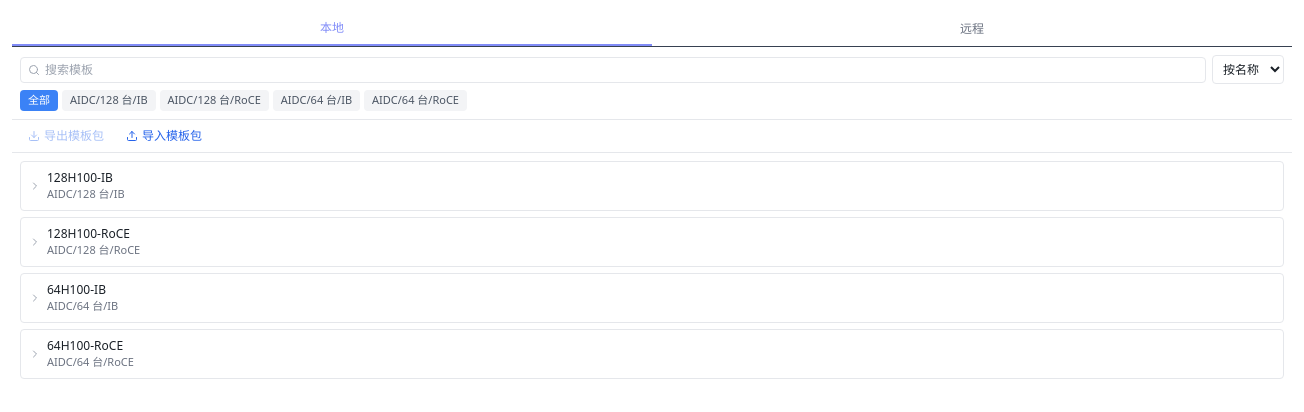
it: 4.9.0 模板中心展示 AIDC 示例 › 按 scenario 分类筛选
The width and height of the screenshot is (1304, 412).
// 点击分类按钮 AIDC/128 台/IB → 仅剩 128H100-IB
Step 1. Click the button "AIDC/128 台/IB" → (109, 100), box top-left (62, 90), bottom-right (156, 110)
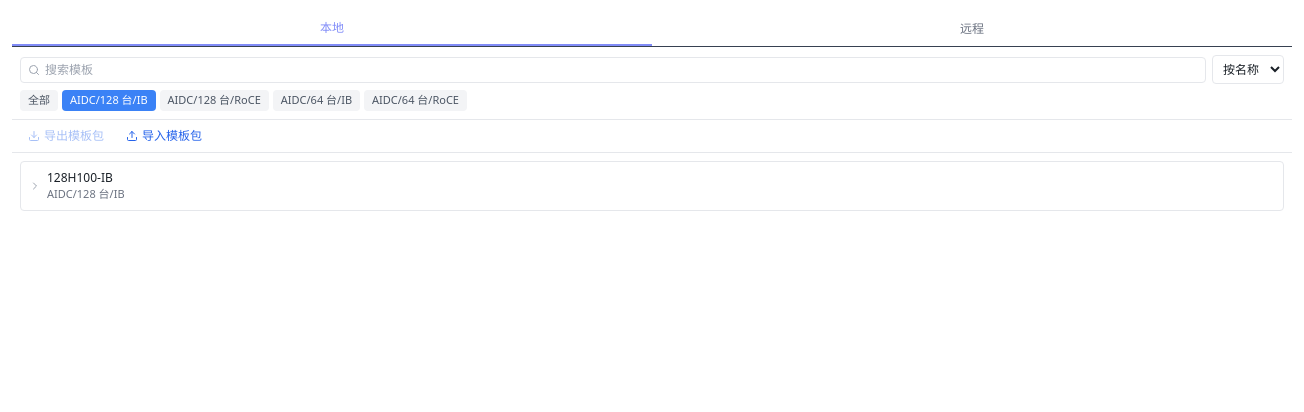
Expected: the text "128H100-IB" is shown, top-left (47, 170), bottom-right (113, 186)
Result: the text "64H100-IB" is gone
Result: the text "128H100-RoCE" is gone
// 切回「全部」→ 4 个都回来
Step 2. Click the button "全部" → (39, 100), box top-left (20, 90), bottom-right (58, 110)
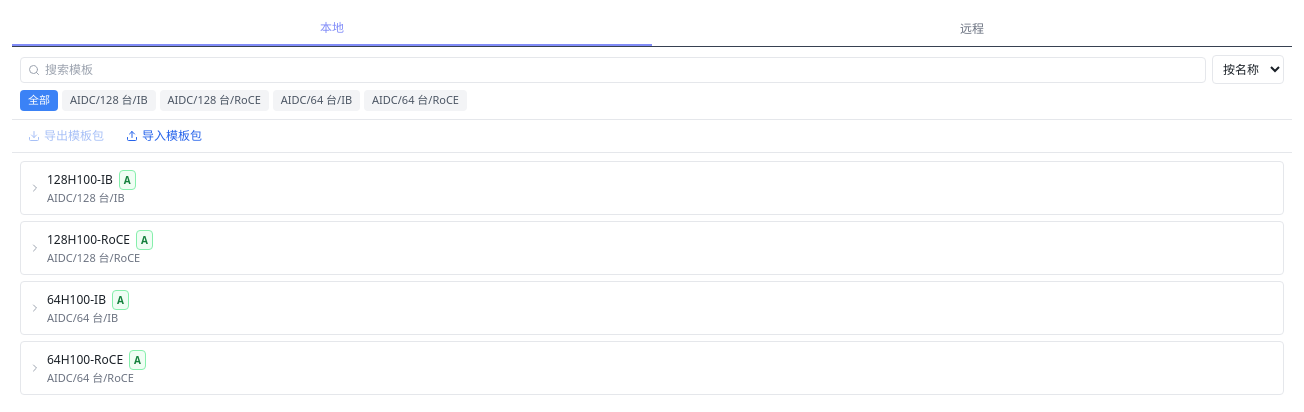
Result: the text "64H100-IB" is shown at top-left (47, 292), bottom-right (106, 308)
Result: the text "128H100-RoCE" is shown at top-left (47, 232), bottom-right (130, 248)
